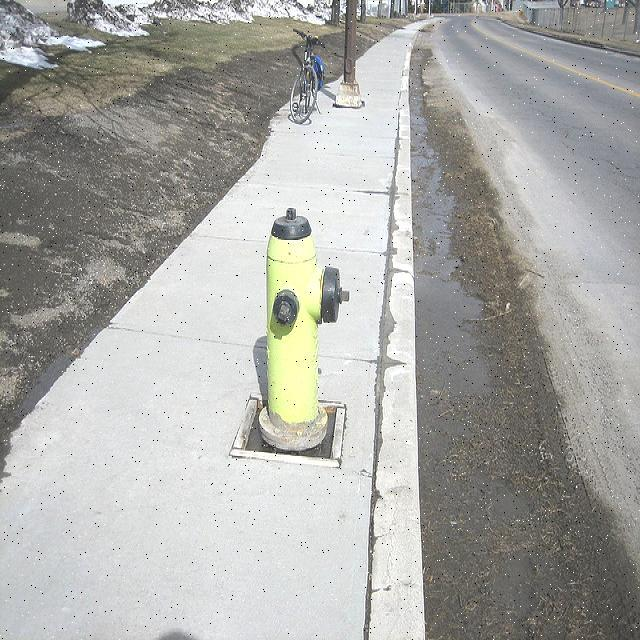fire_hydrant: (259, 208, 352, 446)
